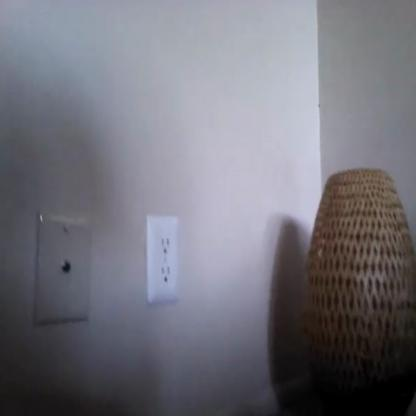OUTLET: (145, 212, 178, 302)
